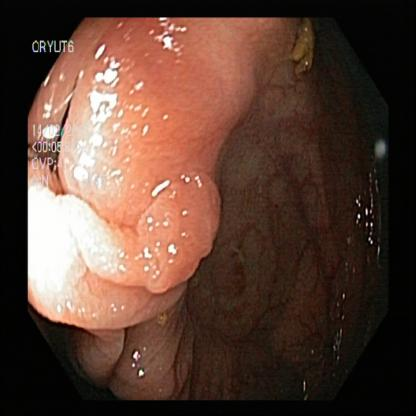Labels: (25, 118, 121, 206), (31, 32, 96, 82)
Polyps: (29, 203, 140, 326), (138, 185, 225, 281)
